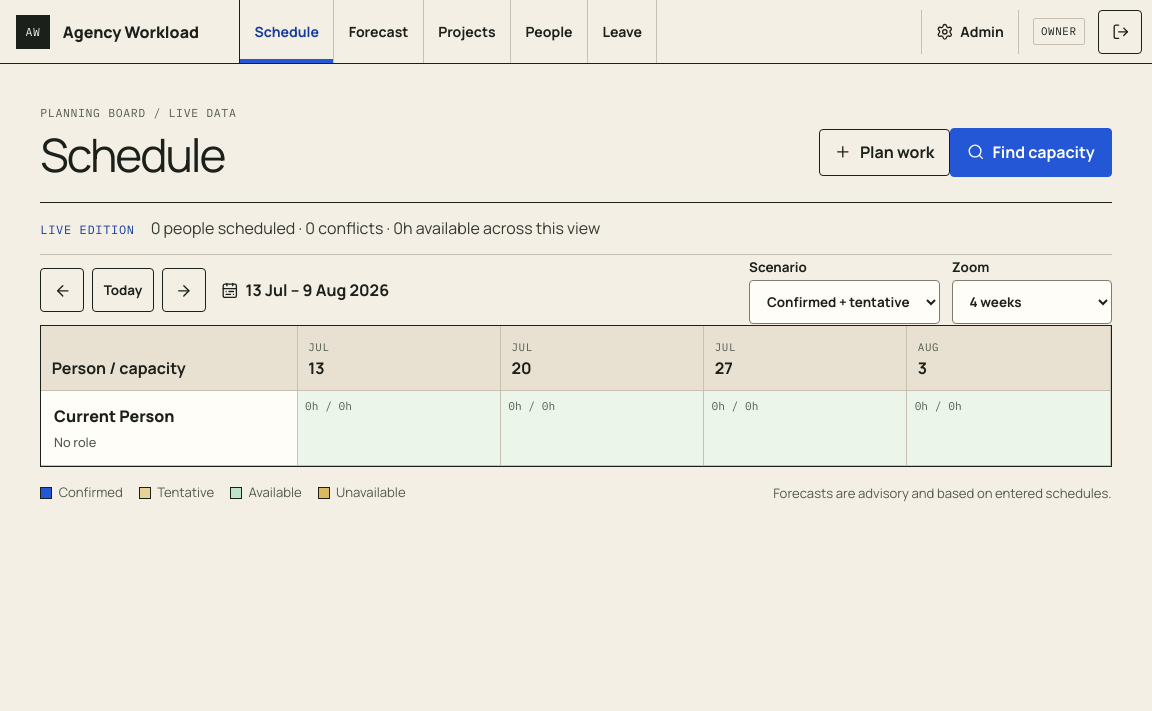
it: Agency Workload app routes › blocks Start Finder handoff when the result person is missing from the current plan
This screenshot has width=1152, height=711.
What coordinates should you click on to do the following:
click the button "Find capacity"
I would click on:
 (1031, 152)
Its box is [950,128,1112,177].
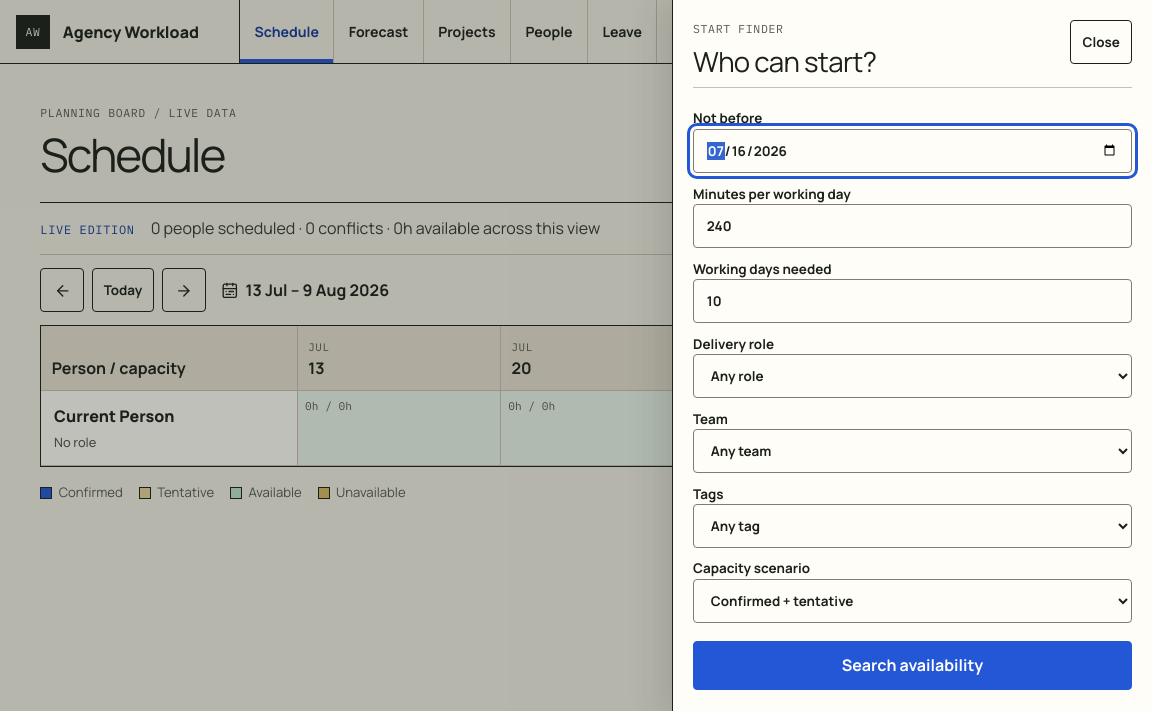
What coordinates should you click on to do the following:
click the button "Search availability"
I would click on:
 (912, 665)
Its box is [693,641,1132,690].
(page scrolled)
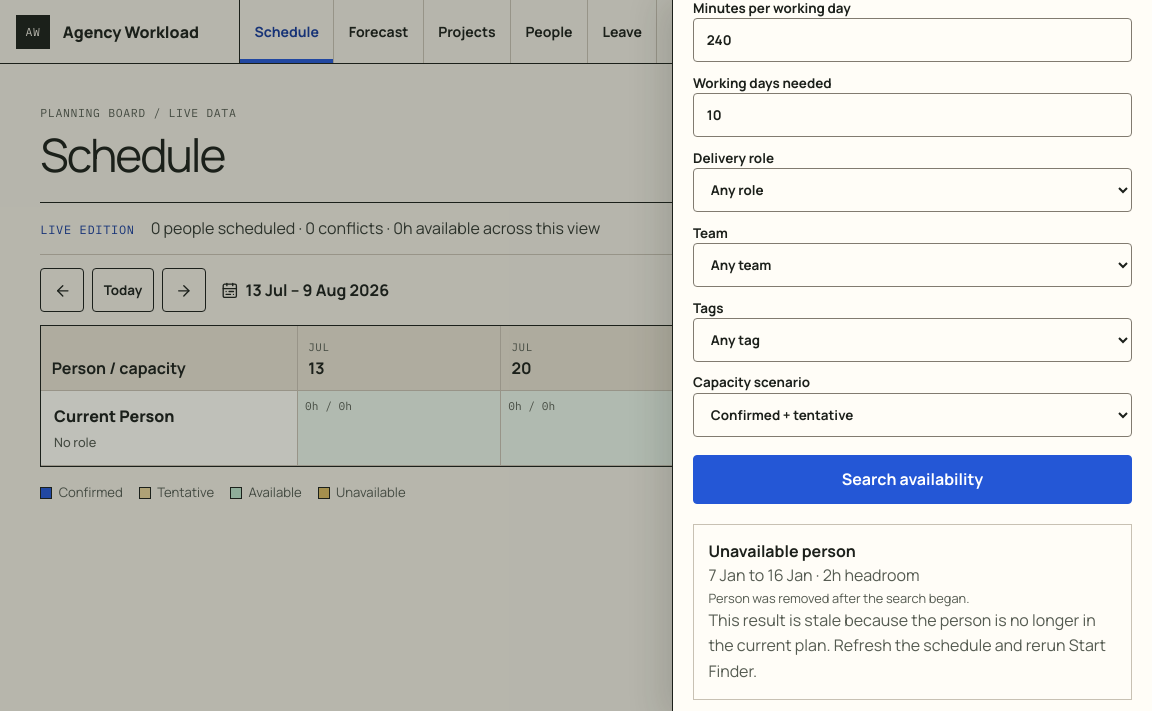
Now the text "Person was removed after the search began." is shown, box [708,589,969,607]
